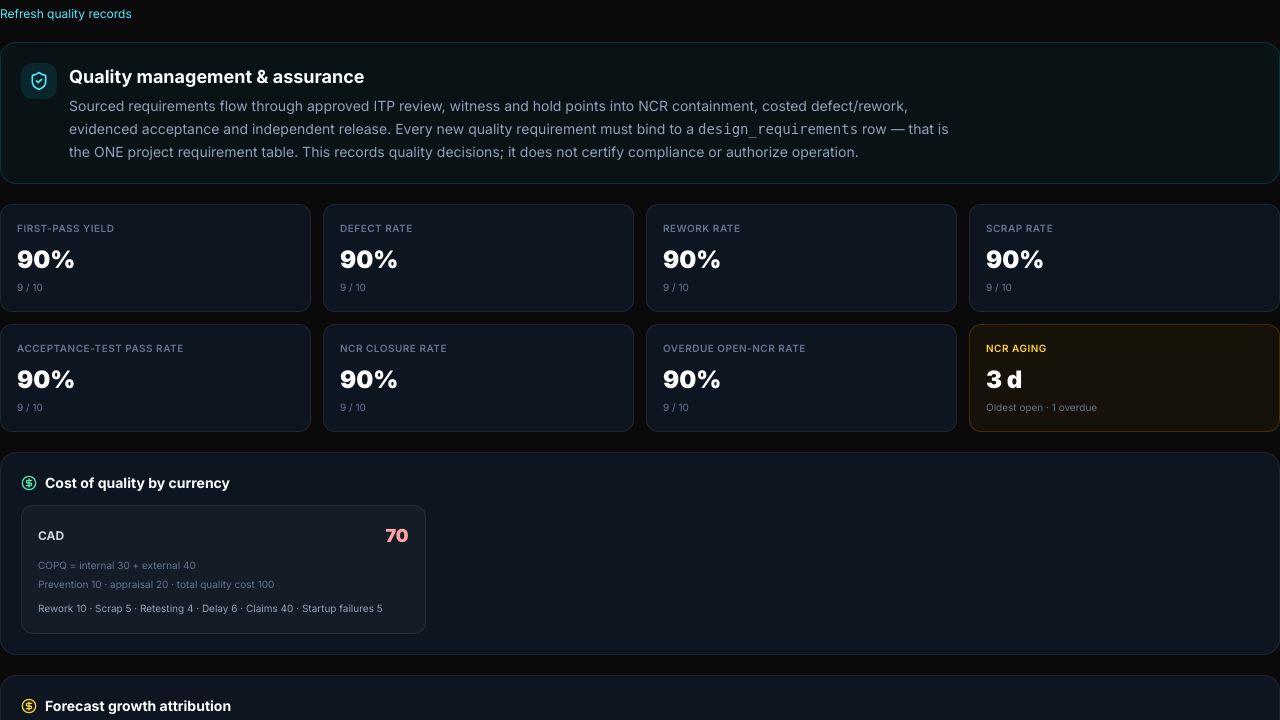
Test: QualityManagementWorkbench › clears prior data when refresh authentication fails, without a sign-out event
Expected: the heading "Quality management & assurance" is shown, [69,66,365,87]
What coordinates should you click on to do the following:
click the button "Refresh quality records"
I would click on:
 (66, 14)
Its box is [0,6,132,22].
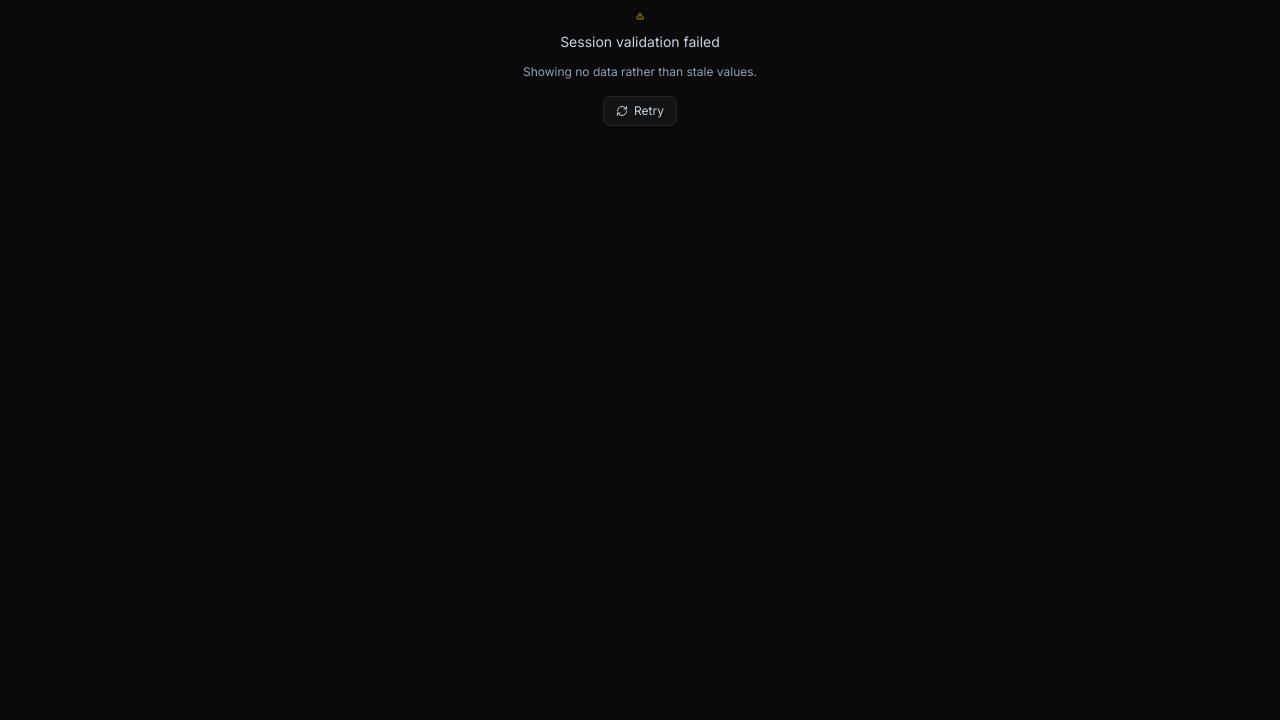
Now the text "Session validation failed" is shown, box [560,32,720,52]
